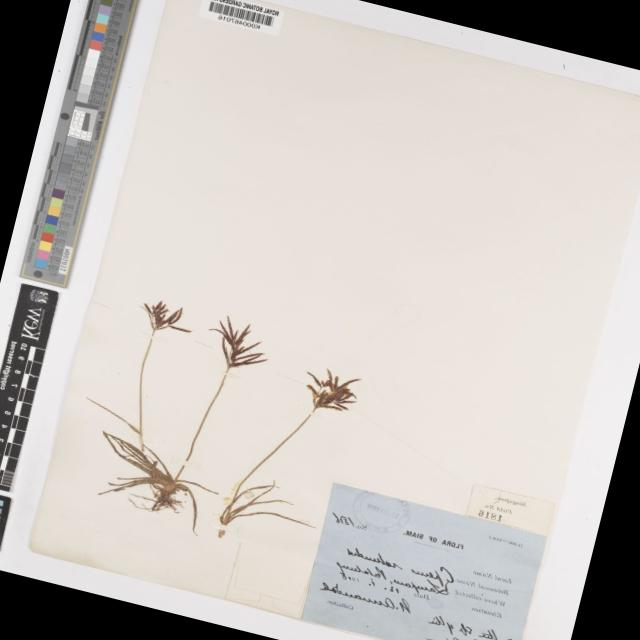cyperus: (287, 352, 378, 428), (191, 312, 281, 382), (128, 286, 199, 350)
